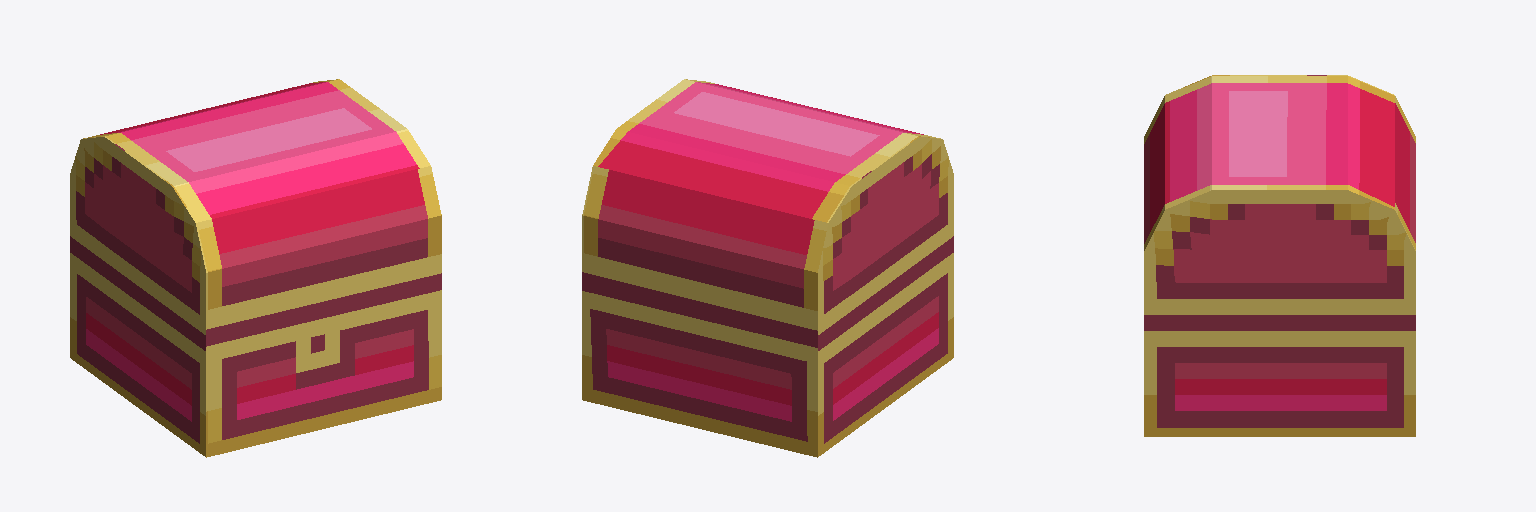
3 views of the same model, side by side, from view 1: azimuth 30°, elevation 25°; view 2: azimuth 150°, elevation 25°; view 3: azimuth 270°, elevation 25° (orthographic).
Visible parts, largest first — view 1: default; view 2: default; view 3: default.
Part boxes in pixels (x1,y1,x2,y2): default: (70, 79, 441, 457); default: (582, 79, 953, 457); default: (1144, 75, 1415, 436).
Bounding box in the file's own units: 0.5 × 0.5 × 0.5.
1 materials, 1 textured.